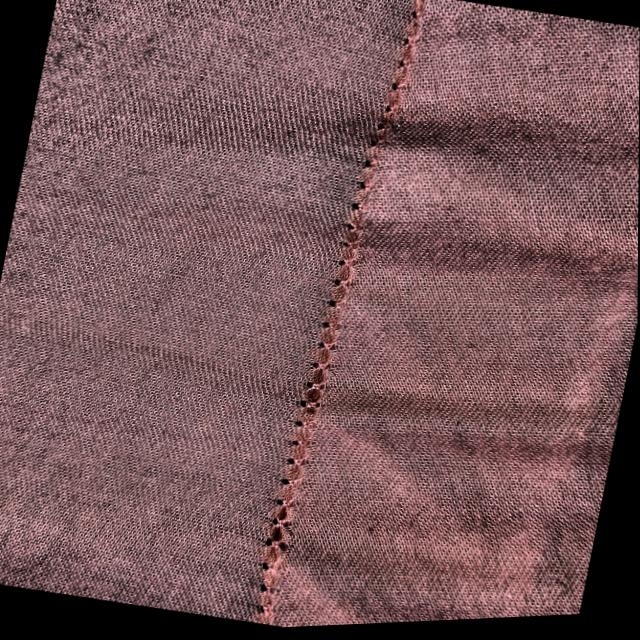seam: (229, 324, 371, 577)
